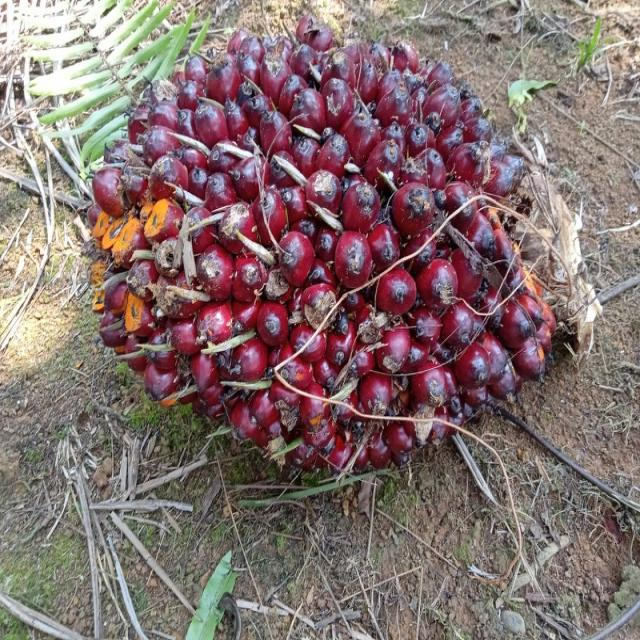fraksi 1: (73, 0, 564, 516)
